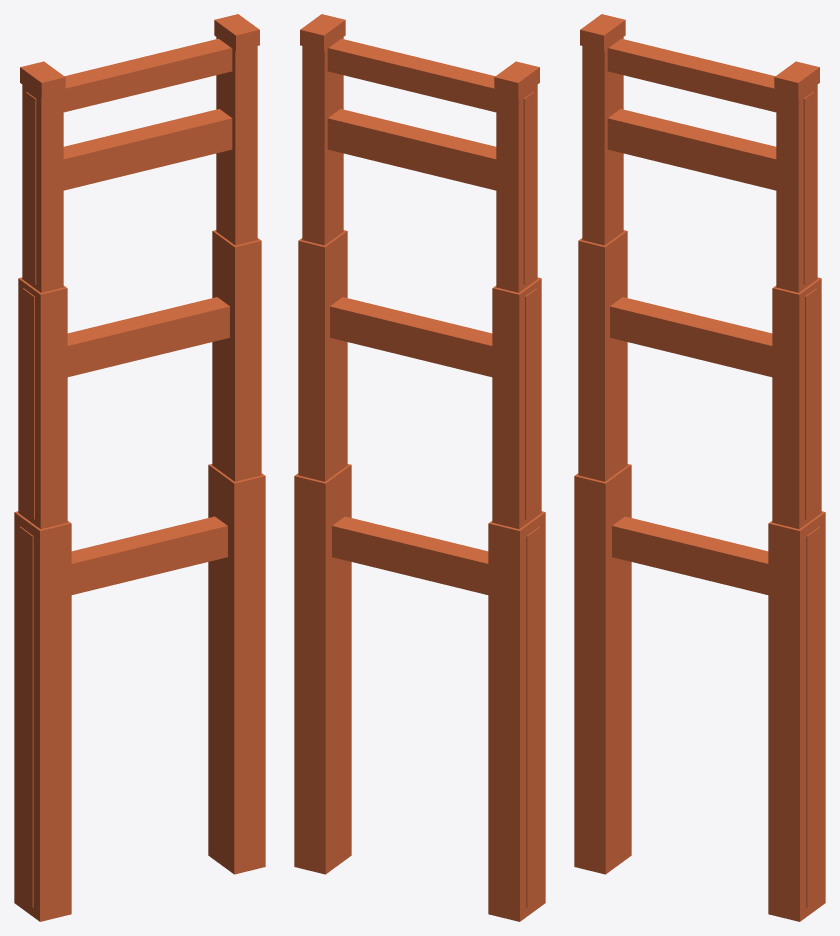
The model's file is gg_tower.glb.
3 renders of one model, left to right at view 1: azimuth 30°, elevation 25°; view 2: azimuth 150°, elevation 25°; view 3: azimuth 330°, elevation 25°, orthographic.
Parts seen in each view (by area): view 1: GGTower; view 2: GGTower; view 3: GGTower.
Boxes of the visible parts, <box> form: GGTower: <box>14,14,265,921</box>; GGTower: <box>294,14,545,921</box>; GGTower: <box>574,14,825,921</box>.
Bounding box in the file's own units: 30.5 × 107 × 6.
